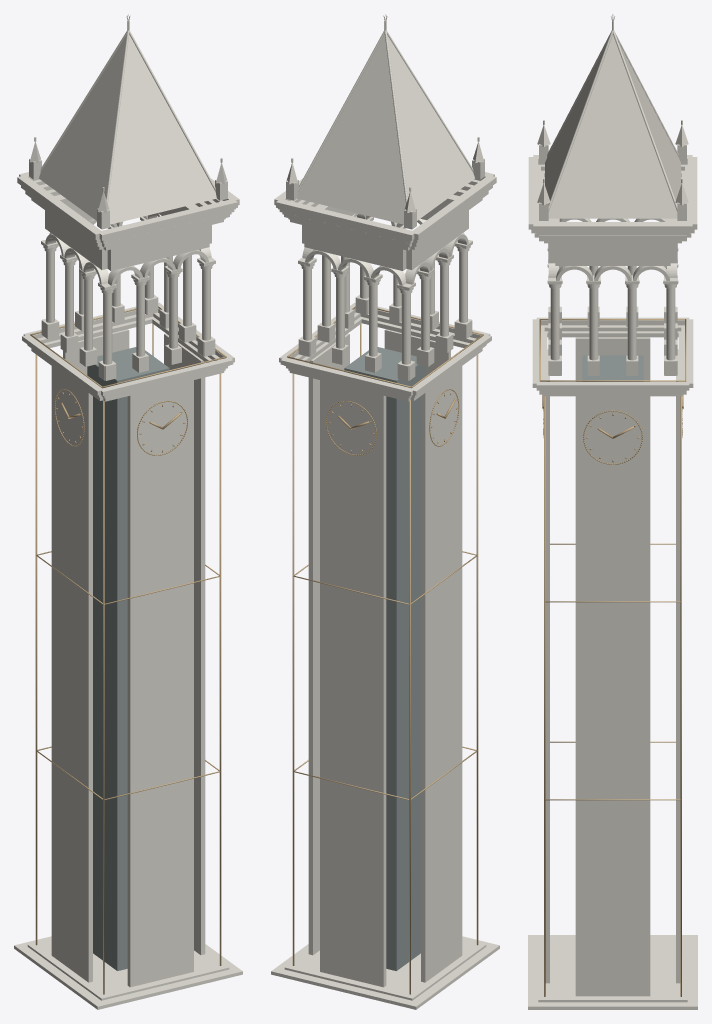
Rendered from journey-berkeley-abstract.glb.
3 views of the same model, side by side, from view 1: azimuth 30°, elevation 25°; view 2: azimuth 150°, elevation 25°; view 3: azimuth 270°, elevation 25° (orthographic).
Visible parts, largest first — view 1: Campanile | source ivory structure, Campanile | recesses, Campanile | champagne inlay; view 2: Campanile | source ivory structure, Campanile | recesses, Campanile | champagne inlay; view 3: Campanile | source ivory structure, Campanile | champagne inlay, Campanile | recesses.
Boxes of the visible parts, left/top/right/bottom form: Campanile | source ivory structure: left=14, top=14, right=242, bottom=1009; Campanile | recesses: left=87, top=347, right=169, bottom=970; Campanile | champagne inlay: left=30, top=306, right=226, bottom=994; Campanile | source ivory structure: left=271, top=14, right=499, bottom=1009; Campanile | recesses: left=344, top=347, right=426, bottom=970; Campanile | champagne inlay: left=287, top=306, right=483, bottom=994; Campanile | source ivory structure: left=528, top=14, right=697, bottom=1009; Campanile | champagne inlay: left=539, top=319, right=686, bottom=996; Campanile | recesses: left=582, top=355, right=643, bottom=381.
Bounding box in the file's own units: 0.6893 × 4.3 × 0.6893.
